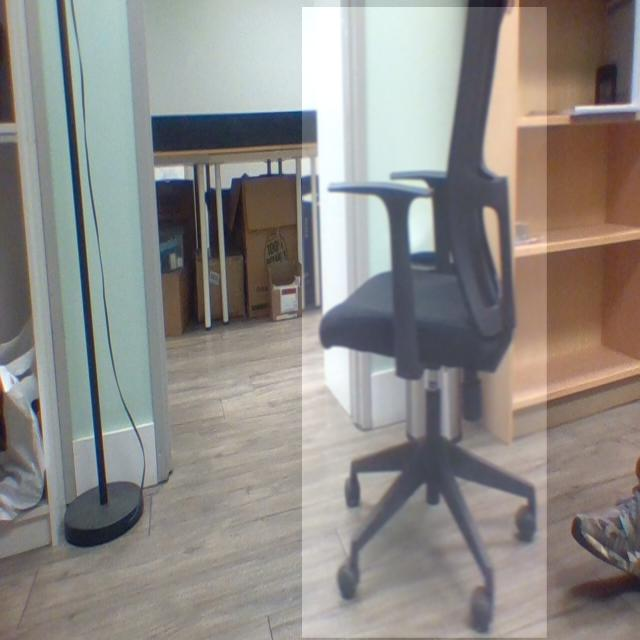black-chair: (302, 7, 548, 639)
